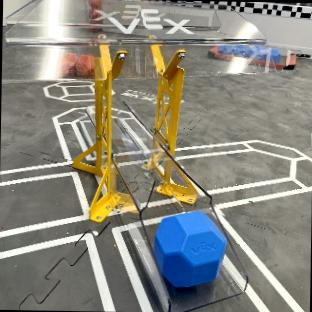V5_BLUE: (152, 211, 226, 287)
